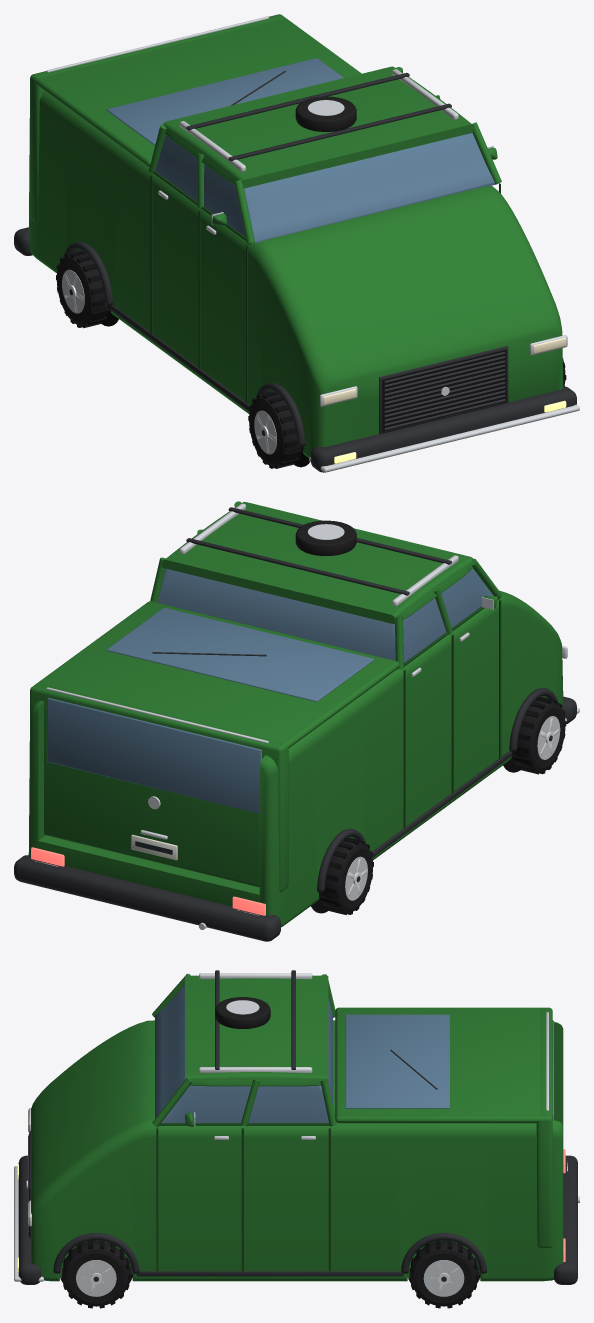
Rendered from babytrip.fbx.
The picture shows the model from 3 angles, top to bottom: view 1: azimuth 30°, elevation 25°; view 2: azimuth 150°, elevation 25°; view 3: azimuth 270°, elevation 25°; orthographic projection. The views are drawn at different scales.
Parts seen in each view (by area): view 1: Body, Lid, Wheel_3, Wheel_1, LidFlap; view 2: Body, LidFlap, Lid, Wheel_3, Wheel_1; view 3: Body, Lid, Wheel_0, Wheel_2, LidFlap.
Boxes of the visible parts, x1,y1,x2,y2 form: Body: (14, 66, 579, 472); Lid: (30, 14, 361, 166); Wheel_3: (248, 391, 302, 468); Wheel_1: (56, 250, 109, 328); LidFlap: (30, 14, 283, 223); Body: (14, 501, 579, 941); LidFlap: (30, 683, 288, 891); Lid: (30, 601, 399, 751); Wheel_3: (512, 697, 566, 774); Wheel_1: (320, 837, 373, 915); Body: (14, 970, 579, 1284); Lid: (335, 1007, 552, 1123); Wheel_0: (409, 1240, 478, 1308); Wheel_2: (62, 1240, 130, 1308); LidFlap: (536, 1008, 553, 1247).
Bounding box in the file's own units: 6.5 × 5.81 × 12.24.
